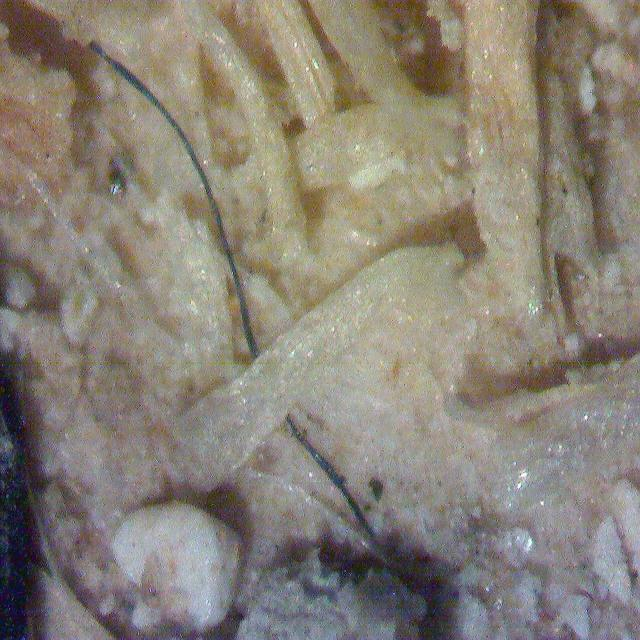microplastic: (91, 41, 379, 551)
